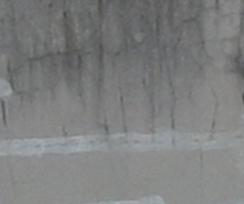fissura: (7, 0, 244, 143)
